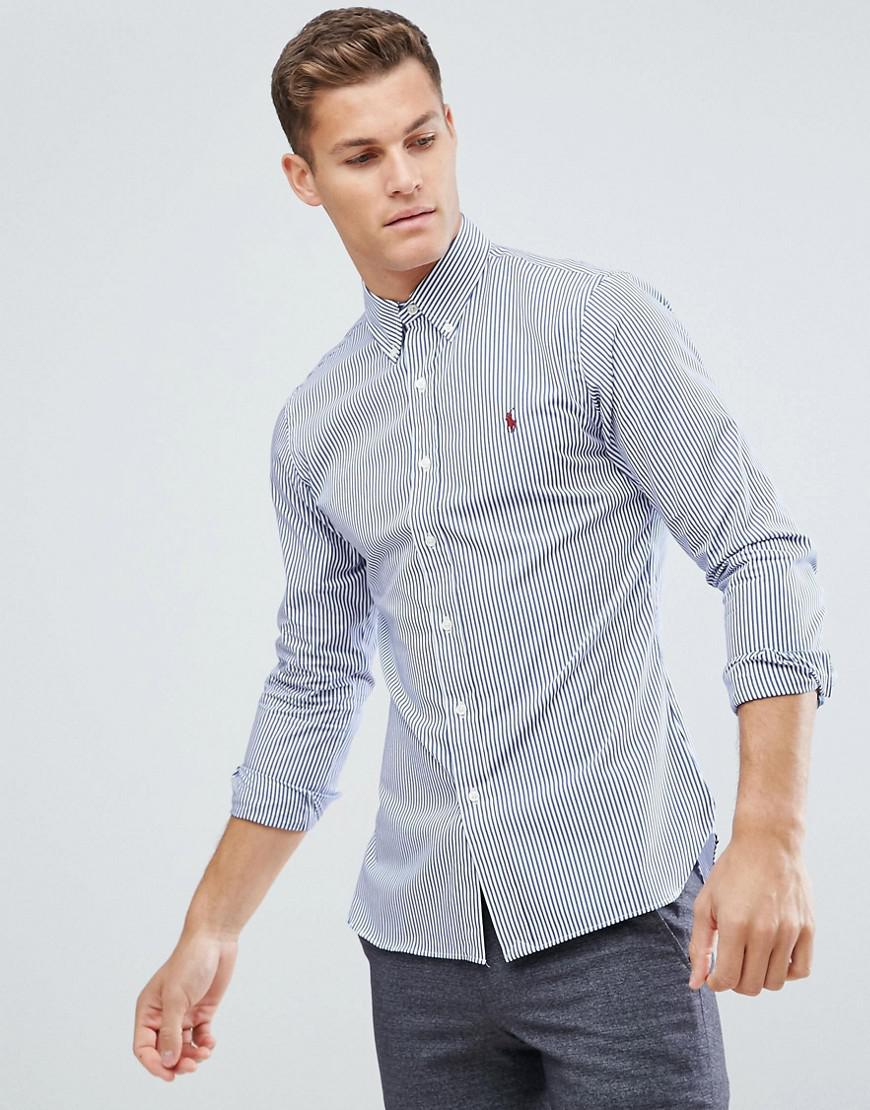teeshirt: (227, 273, 708, 924)
